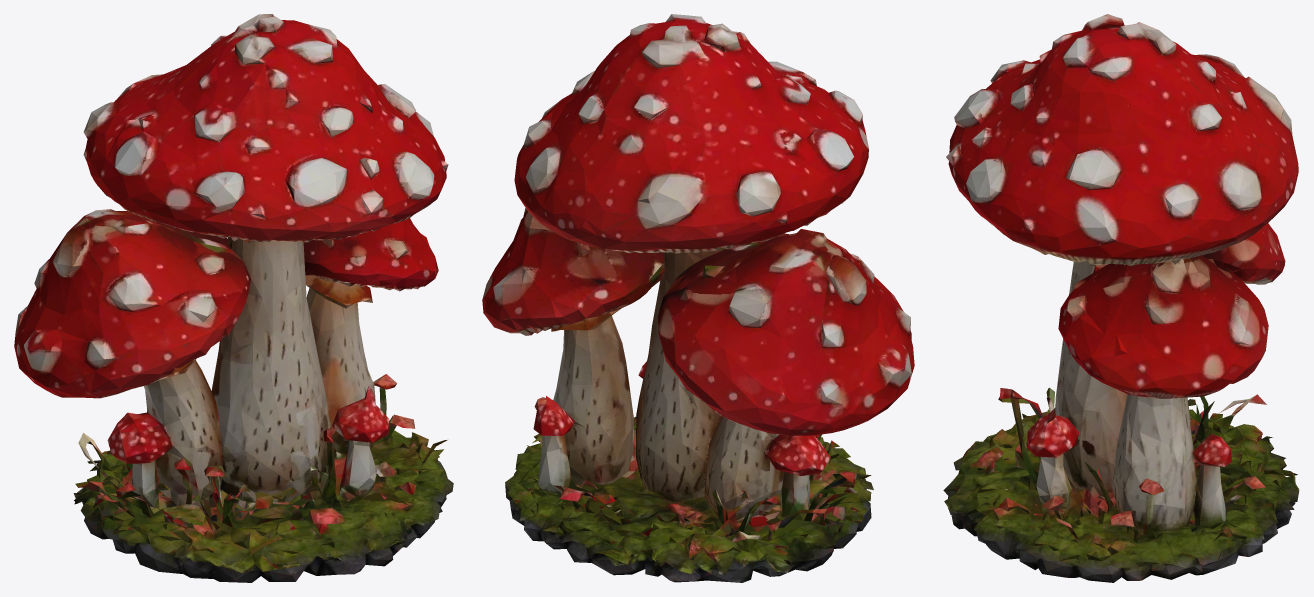
File: red_mushroom_group.glb
3 renders of one model, left to right at view 1: azimuth 30°, elevation 25°; view 2: azimuth 150°, elevation 25°; view 3: azimuth 270°, elevation 25°, orthographic.
Size of the model in its own units: 1.68 by 1.97 by 1.3.
Materials: 1 (1 with a texture image).
